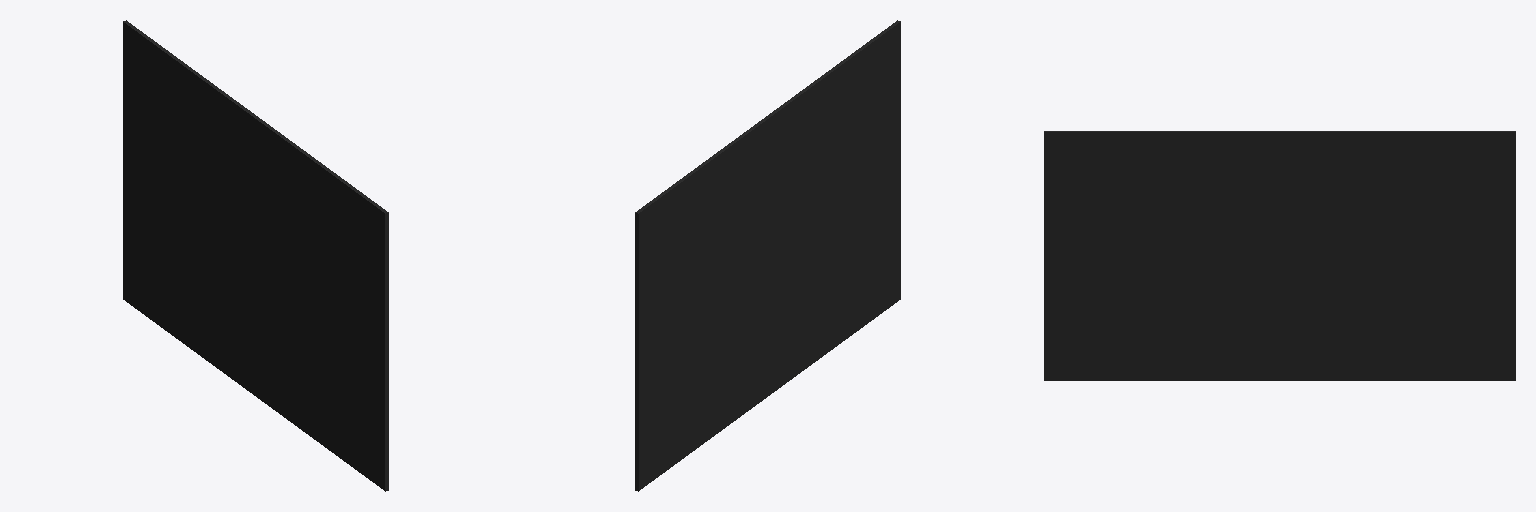
robot.urdf — sawyer:
<?xml version="1.0" ?>

<robot name="sawyer" xmlns:xacro="http://www.ros.org/wiki/xacro">
  <material name="black">
    <color rgba="0 0 0 1"/>
  </material>
  <material name="darkgray">
    <color rgba=".2 .2 .2 1"/>
  </material>
  <material name="darkred">
    <color rgba=".5 .1 .1 1"/>
  </material>
  <material name="sawyer_red">
    <color rgba=".5 .1 .1 1"/>
  </material>
  <material name="sawyer_gray">
    <color rgba="0.75294 0.75294 0.75294 1"/>
  </material>
  <link name="base"/>   
  <joint name="right_arm_mount" type="fixed">
    <origin rpy="0 0 0" xyz="0.0 0.0 0.0"/>
    <parent link="base"/>
    <child link="right_arm_base_link"/>
  </joint>
  <link name="right_arm_base_link">
    <inertial>
      <origin rpy="0 0 0" xyz="-0.0006241 -2.8025E-05 0.065404"/>
      <mass value="2.0687"/>
      <inertia ixx="0.0067599" ixy="-4.2024E-05" ixz="-6.1904E-07" iyy="0.0067877" iyz="1.5888E-05" izz="0.0074031"/>
    </inertial>
    <visual>
      <origin rpy="0 0 0" xyz="0 0 0"/>
      <geometry>
        <mesh filename="package://sawyer_description/meshes/sawyer_pv/base.DAE"/>
      </geometry>
      <material name="sawyer_red"/>
    </visual>
    <collision>
      <origin rpy="0 0 0" xyz="0 0 0.12"/>
      <geometry>
        <cylinder length="0.24" radius="0.08"/>
      </geometry>
    </collision>
  </link>
  <link name="right_l0">
    <inertial>
      <origin rpy="0 0 0" xyz="0.024366 0.010969 0.14363"/>
      <mass value="5.3213"/>
      <inertia ixx="0.053314" ixy="0.0047093" ixz="0.011734" iyy="0.057902" iyz="0.0080179" izz="0.023659"/>
    </inertial>
    <visual>
      <origin rpy="0 0 0" xyz="0 0 0"/>
      <geometry>
        <mesh filename="package://sawyer_description/meshes/sawyer_mp3/l0.DAE"/>
      </geometry>
      <material name="sawyer_red"/>
    </visual>
    <collision>
      <origin rpy="0 0 0" xyz="0.081 0 0.237"/>
      <geometry>
        <sphere radius="0.07"/>
      </geometry>
    </collision>
  </link>
  <joint name="right_j0" type="revolute">
    <origin rpy="0 0 0" xyz="0 0 0.08"/>
    <parent link="right_arm_base_link"/>
    <child link="right_l0"/>
    <axis xyz="0 0 1"/>
    <limit effort="80.0" lower="-3.0503" upper="3.0503" velocity="1.74"/>
  </joint>
  <link name="head">
    <inertial>
      <origin rpy="0 0 0" xyz="0.0053207 -2.6549E-05 0.1021"/>
      <mass value="1.5795"/>
      <inertia ixx="0.011833" ixy="-4.4669E-06" ixz="4.9425E-05" iyy="0.0082709" iyz="4.2124E-07" izz="0.0049661"/>
    </inertial>
    <visual>
      <origin rpy="0 0 0" xyz="0 0 0"/>
      <geometry>
        <mesh filename="package://sawyer_description/meshes/sawyer_pv/head.DAE"/>
      </geometry>
      <material name="sawyer_red"/>
    </visual>
    <collision>
      <origin rpy="0 0 0" xyz="0 0 0.08"/>
      <geometry>
        <sphere radius="0.18"/>
      </geometry>
    </collision>
  </link>
  <joint name="head_pan" type="revolute">
    <origin rpy="0 0 0" xyz="0 0 0.2965"/>
    <parent link="right_l0"/>
    <child link="head"/>
    <axis xyz="0 0 1"/>
    <limit effort="8" lower="-5.1477" upper="0.9559" velocity="1.8"/>
  </joint>
  <link name="right_torso_itb">
    <inertial>
      <origin rpy="0 0 0" xyz="0.000000 0.000000 0.000000"/>
      <mass value="0.0001"/>
      <inertia ixx="1e-08" ixy="0" ixz="0" iyy="1e-08" iyz="0" izz="1e-08"/>
    </inertial>
  </link>
  <joint name="right_torso_itb" type="fixed">
    <origin rpy="0 -1.57079632679 0" xyz="-.055 0 .22"/>
    <parent link="right_l0"/>
    <child link="right_torso_itb"/>
    <axis xyz="0 0 1"/>
  </joint>
  <link name="right_l1">
    <inertial>
      <origin rpy="0 0 0" xyz="-0.0030849 -0.026811 0.092521"/>
      <mass value="4.505"/>
      <inertia ixx="0.022398" ixy="-0.00023986" ixz="-0.00029362" iyy="0.014613" iyz="-0.0060875" izz="0.017295"/>
    </inertial>
    <visual>
      <origin rpy="0 0 0" xyz="0 0 0"/>
      <geometry>
        <mesh filename="package://sawyer_description/meshes/sawyer_mp3/l1.DAE"/>
      </geometry>
      <material name="sawyer_red"/>
    </visual>
    <collision>
      <origin rpy="0 0 0" xyz="0 0 0.1225"/>
      <geometry>
        <sphere radius="0.07"/>
      </geometry>
    </collision>
  </link>
  <joint name="right_j1" type="revolute">
    <origin rpy="-1.57079632679 1.57079632679 0" xyz="0.081 0.05 0.237"/>
    <parent link="right_l0"/>
    <child link="right_l1"/>
    <axis xyz="0 0 1"/>
    <limit effort="80.0" lower="-3.8183" upper="2.2824" velocity="1.328"/>
  </joint>
  <link name="right_l2">
    <inertial>
      <origin rpy="0 0 0" xyz="-0.00016232 -0.015346 0.13445"/>
      <mass value="1.7251"/>
      <inertia ixx="0.025176" ixy="4.3031E-06" ixz="1.4564E-05" iyy="0.024982" iyz="-0.0033928" izz="0.0033798"/>
    </inertial>
    <visual>
      <origin rpy="0 0 0" xyz="0 0 0"/>
      <geometry>
        <mesh filename="package://sawyer_description/meshes/sawyer_pv/l2.DAE"/>
      </geometry>
      <material name="sawyer_red"/>
    </visual>
    <collision>
      <origin rpy="0 0 0" xyz="0 0 0.14"/>
      <geometry>
        <cylinder length="0.35" radius="0.06"/>
      </geometry>
    </collision>
  </link>
  <joint name="right_j2" type="revolute">
    <origin rpy="1.57079632679 0 0" xyz="0 -0.14 0.1425"/>
    <parent link="right_l1"/>
    <child link="right_l2"/>
    <axis xyz="0 0 1"/>
    <limit effort="40.0" lower="-3.0514" upper="3.0514" velocity="1.957"/>
  </joint>
  <link name="right_l3">
    <inertial>
      <origin rpy="0 0 0" xyz="-0.0046678 -0.028394 -0.083127"/>
      <mass value="2.4743"/>
      <inertia ixx="0.0099549" ixy="-1.7675E-05" ixz="0.00027521" iyy="0.0064248" iyz="0.0030853" izz="0.0067746"/>
    </inertial>
    <visual>
      <origin rpy="0 0 0" xyz="0 0 0"/>
      <geometry>
        <mesh filename="package://sawyer_description/meshes/sawyer_pv/l3.DAE"/>
      </geometry>
      <material name="sawyer_red"/>
    </visual>
    <collision>
      <origin rpy="0 0 0" xyz="0 -0.01 -0.12"/>
      <geometry>
        <sphere radius="0.06"/>
      </geometry>
    </collision>
  </link>
  <joint name="right_j3" type="revolute">
    <origin rpy="-1.57079632679 0 0" xyz="0 -0.042 0.26"/>
    <parent link="right_l2"/>
    <child link="right_l3"/>
    <axis xyz="0 0 1"/>
    <limit effort="40.0" lower="-3.0514" upper="3.0514" velocity="1.957"/>
  </joint>
  <link name="right_l4">
    <inertial>
      <origin rpy="0 0 0" xyz="-0.0027794 0.0076558 0.13273"/>
      <mass value="1.0433"/>
      <inertia ixx="0.012913" ixy="2.573E-05" ixz="0.00017705" iyy="0.012939" iyz="0.0011152" izz="0.0012405"/>
    </inertial>
    <visual>
      <origin rpy="0 0 0" xyz="0 0 0"/>
      <geometry>
        <mesh filename="package://sawyer_description/meshes/sawyer_pv/l4.DAE"/>
      </geometry>
      <material name="sawyer_red"/>
    </visual>
    <collision>
      <origin rpy="0 0 0" xyz="0 0 0.14"/>
      <geometry>
        <cylinder length="0.36" radius="0.045"/>
      </geometry>
    </collision>
  </link>
  <joint name="right_j4" type="revolute">
    <origin rpy="1.57079632679 0 0" xyz="0 -0.125 -0.1265"/>
    <parent link="right_l3"/>
    <child link="right_l4"/>
    <axis xyz="0 0 1"/>
    <limit effort="9.0" lower="-2.9842" upper="2.9842" velocity="3.485"/>
  </joint>
  <link name="right_arm_itb">
    <inertial>
      <origin rpy="0 0 0" xyz="0.000000 0.000000 0.000000"/>
      <mass value="0.0001"/>
      <inertia ixx="1e-08" ixy="0" ixz="0" iyy="1e-08" iyz="0" izz="1e-08"/>
    </inertial>
  </link>
  <joint name="right_arm_itb" type="fixed">
    <origin rpy="0 -1.57079632679 0" xyz="-.055 0 .075"/>
    <parent link="right_l4"/>
    <child link="right_arm_itb"/>
    <axis xyz="0 0 1"/>
  </joint>
  <link name="right_l5">
    <inertial>
      <origin rpy="0 0 0" xyz="0.0062067 -0.024291 0.075564"/>
      <mass value="1.5343"/>
      <inertia ixx="0.0046072" ixy="0.00012002" ixz="5.3065E-05" iyy="0.0028725" iyz="-0.0011886" izz="0.003101"/>
    </inertial>
    <visual>
      <origin rpy="0 0 0" xyz="0 0 0"/>
      <geometry>
        <mesh filename="package://sawyer_description/meshes/sawyer_pv/l5.DAE"/>
      </geometry>
      <material name="sawyer_red"/>
    </visual>
    <collision>
      <origin rpy="0 0 0" xyz="0.01 0 0.09"/>
      <geometry>
        <sphere radius="0.06"/>
      </geometry>
    </collision>
  </link>
  <joint name="right_j5" type="revolute">
    <origin rpy="-1.57079632679 0 0" xyz="0 0.031 0.275"/>
    <parent link="right_l4"/>
    <child link="right_l5"/>
    <axis xyz="0 0 1"/>
    <limit effort="9.0" lower="-2.9842" upper="2.9842" velocity="3.485"/>
  </joint>
  <link name="right_hand_camera"/>
  <joint name="right_hand_camera" type="fixed">
    <origin rpy="0 1.57079632679 0" xyz="0.039552 -0.033 0.0695"/>
    <parent link="right_l5"/>
    <child link="right_hand_camera"/>
    <axis xyz="0 0 0"/>
  </joint>
  <link name="right_wrist"/>
  <joint name="right_wrist" type="fixed">
    <origin rpy="1.57079632679 0 0" xyz="0 0 0.10541"/>
    <parent link="right_l5"/>
    <child link="right_wrist"/>
    <axis xyz="0 0 0"/>
  </joint>
  <link name="right_l6">
    <inertial>
      <origin rpy="0 0 0" xyz="-8.0726E-06 0.0085838 -0.0049566"/>
      <mass value="0.3292"/>
      <inertia ixx="0.00031105" ixy="1.4771E-06" ixz="-3.7074E-07" iyy="0.00021549" iyz="-8.4533E-06" izz="0.00035976"/>
    </inertial>
    <visual>
      <origin rpy="0 0 0" xyz="0 0 0"/>
      <geometry>
        <mesh filename="package://sawyer_description/meshes/sawyer_mp1/l6.DAE"/>
      </geometry>
      <material name="sawyer_red"/>
    </visual>
    <collision>
      <origin rpy="0 0 0" xyz="0 0 -0.005"/>
      <geometry>
        <cylinder length="0.05" radius="0.065"/>
      </geometry>
    </collision>
  </link>
  <joint name="right_j6" type="revolute">
    <origin rpy="-1.57079632679 -0.17453 3.1416" xyz="0 -0.11 0.1053"/>
    <parent link="right_l5"/>
    <child link="right_l6"/>
    <axis xyz="0 0 1"/>
    <limit effort="9.0" lower="-4.7104" upper="4.7104" velocity="4.545"/>
  </joint>
  <link name="right_hand">
    <collision>
      <origin rpy="0 0 0" xyz="0 0 0.02"/>
      <geometry>
        <cylinder length="0.04" radius="0.06"/>
      </geometry>
    </collision>
    <inertial>
      <origin rpy="0 0 0" xyz="1.0E-08 1.0E-08 1.0E-08"/>
      <mass value="1.0E-08"/>
      <inertia ixx="1.0E-08" ixy="1.0E-08" ixz="1.0E-08" iyy="1.0E-08" iyz="1.0E-08" izz="1.0E-08"/>
    </inertial>
  </link>
  <joint name="right_hand" type="fixed">
    <origin rpy="0 0 1.570796" xyz="0 0 0.0245"/>
    <axis xyz="0 0 1"/>
    <parent link="right_l6"/>
    <child link="right_hand"/>
  </joint>
  <link name="screen">
    <visual>
      <origin rpy="0 0 0" xyz="0 0 0"/>
      <geometry>
        <box size="0.24 0.14 0.002"/>
      </geometry>
      <material name="darkgray"/>
    </visual>
    <collision>
      <origin rpy="0 0 0" xyz="0 0 0"/>
      <geometry>
        <sphere radius="0.001"/>
      </geometry>
    </collision>
    <inertial>
      <origin rpy="0 0 0" xyz="0 0 0"/>
      <mass value="0.0001"/>
      <inertia ixx="1e-08" ixy="0" ixz="0" iyy="1e-08" iyz="0" izz="1e-08"/>
    </inertial>
  </link>
  <joint name="display_joint" type="fixed">
    <origin rpy="1.57079632679 0 1.57079632679" xyz="0.03 0.0 0.105"/>
    <parent link="head"/>
    <child link="screen"/>
  </joint>
  <link name="head_camera"/>
  <joint name="head_camera" type="fixed">
    <origin rpy="-2.1293 0 -1.57079632679" xyz="0.0228027 0 0.216572"/>
    <parent link="head"/>
    <child link="head_camera"/>
    <axis xyz="0 0 0"/>
  </joint>
</robot>

--- What the picture shows (computed from the rendered views, not written in the file) ---
3 views of the same robot in one strip: view 1: azimuth 30°, elevation 25°; view 2: azimuth 150°, elevation 25°; view 3: azimuth 270°, elevation 25° (orthographic).
Robot: sawyer — 17 links, 16 joints (8 revolute, 8 fixed); root link base; default pose: all joints at 0.
Visible links, largest first — view 1: screen; view 2: screen; view 3: screen.
Link boxes in pixels (x1,y1,x2,y2): screen: (123,20,388,491); screen: (635,20,900,491); screen: (1044,131,1515,380).
Bounding box of the posed robot: 0.002 × 0.24 × 0.14 m (x, y, z).
Meshes: 9 distinct files referenced, 0 mesh visuals loaded (none loaded); not drawn: 9 (reference not matched to a file when rendering).